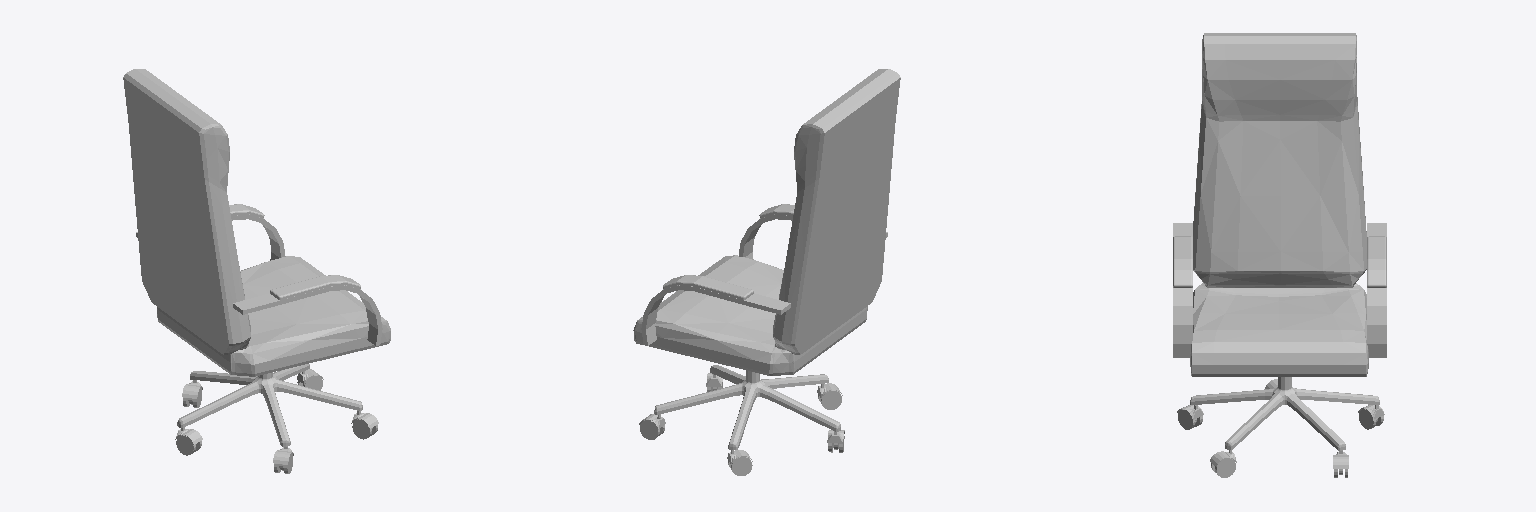
File: chair.obj
3 renders of one model, left to right at view 1: azimuth 30°, elevation 25°; view 2: azimuth 150°, elevation 25°; view 3: azimuth 270°, elevation 25°, orthographic.
Size of the model in its own units: 65.19 by 118 by 63.57.